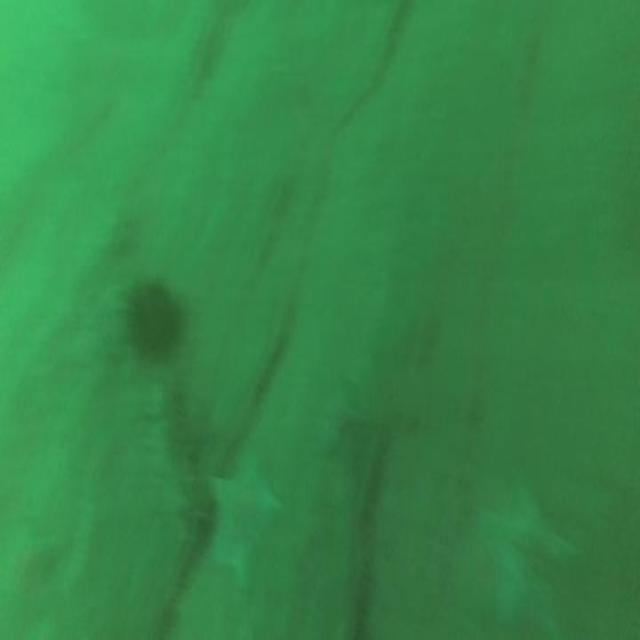echinus: (116, 267, 190, 375)
holothurian: (134, 371, 220, 542)
starfish: (469, 471, 584, 640), (205, 434, 278, 590), (309, 373, 367, 469)
